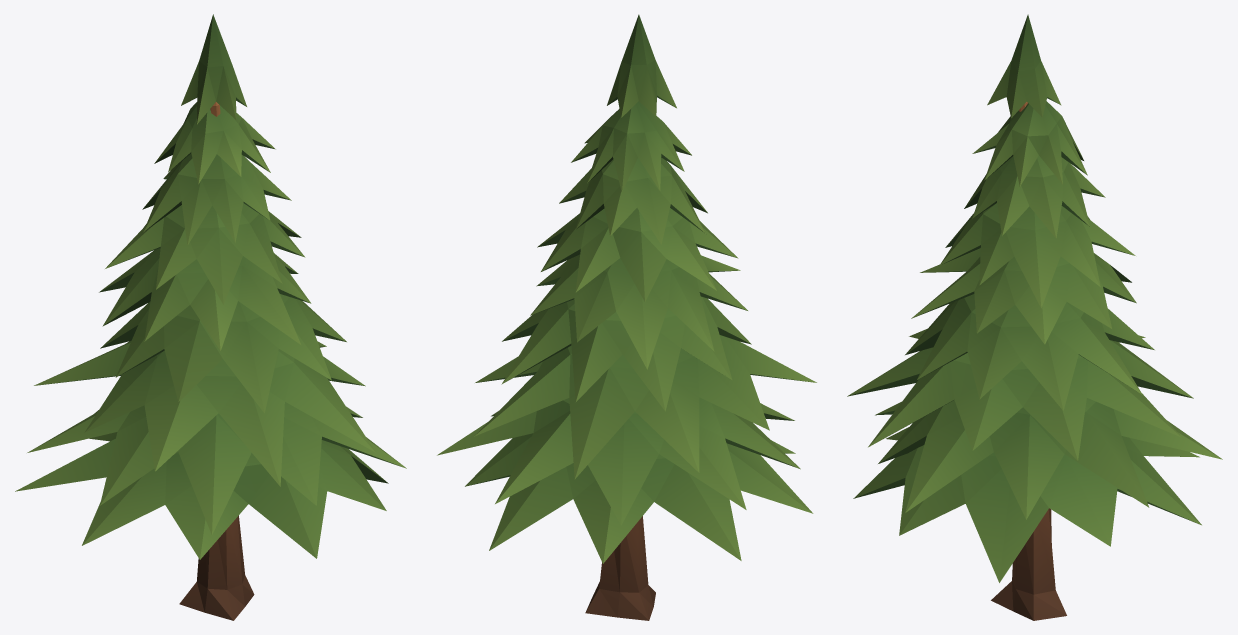
The model's file is pine_tree_02.glb.
3 views of the same model, side by side, from view 1: azimuth 30°, elevation 25°; view 2: azimuth 150°, elevation 25°; view 3: azimuth 270°, elevation 25° (orthographic).
Parts seen in each view (by area): view 1: pine_tree_02_foliage, pine_tree_02_bark; view 2: pine_tree_02_foliage, pine_tree_02_bark; view 3: pine_tree_02_foliage, pine_tree_02_bark.
Boxes of the visible parts, left/top/right/bottom form: pine_tree_02_foliage: left=15, top=14, right=406, bottom=559; pine_tree_02_bark: left=179, top=102, right=254, bottom=620; pine_tree_02_foliage: left=437, top=14, right=816, bottom=563; pine_tree_02_bark: left=585, top=516, right=655, bottom=620; pine_tree_02_foliage: left=847, top=14, right=1222, bottom=582; pine_tree_02_bark: left=991, top=102, right=1066, bottom=620.
Size of the model in its own units: 5.96 by 10.75 by 6.27.
